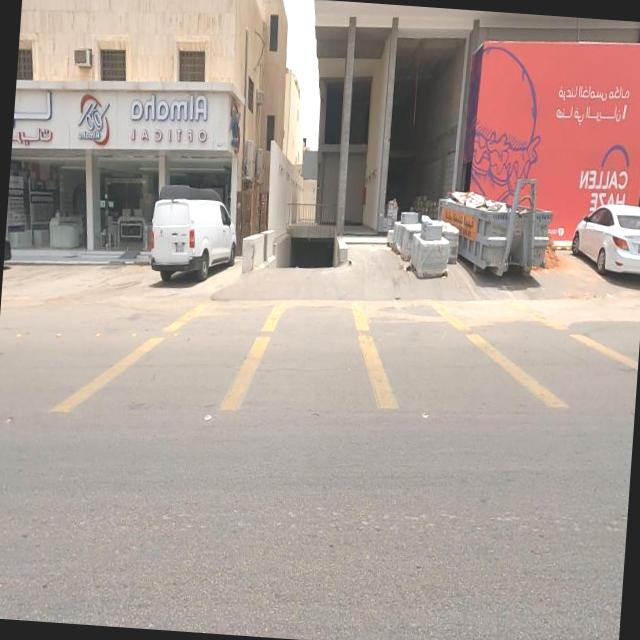debris: (422, 154, 541, 258)
